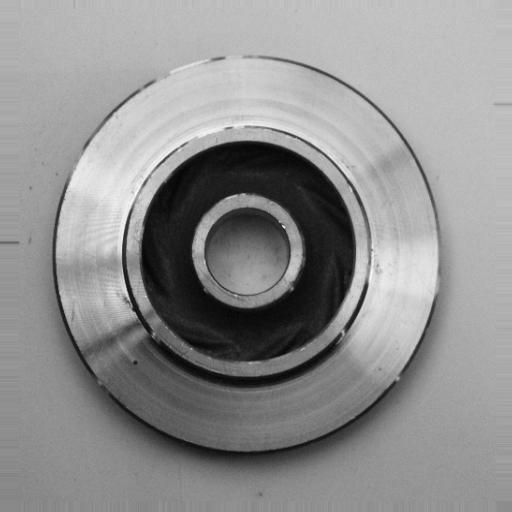scratch: (163, 114, 251, 160)
unpolished_casting: (49, 51, 444, 460)
